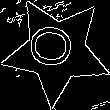O_E: (30, 27, 83, 75)
